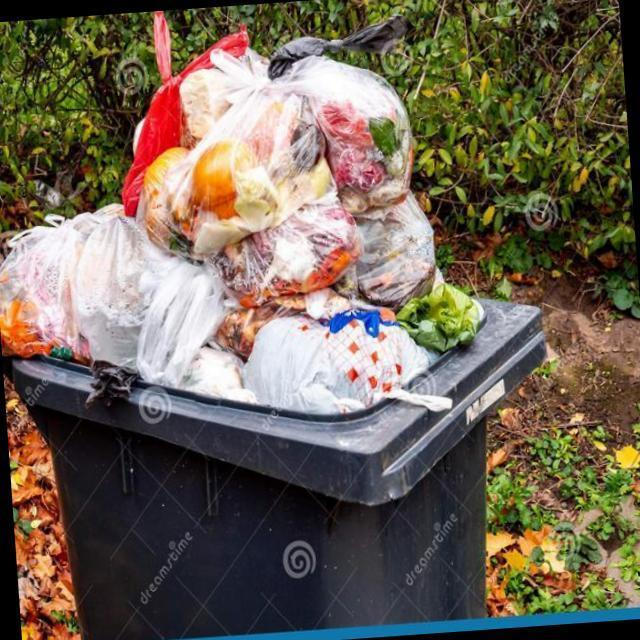garbage: (126, 21, 424, 398), (0, 204, 324, 352)
